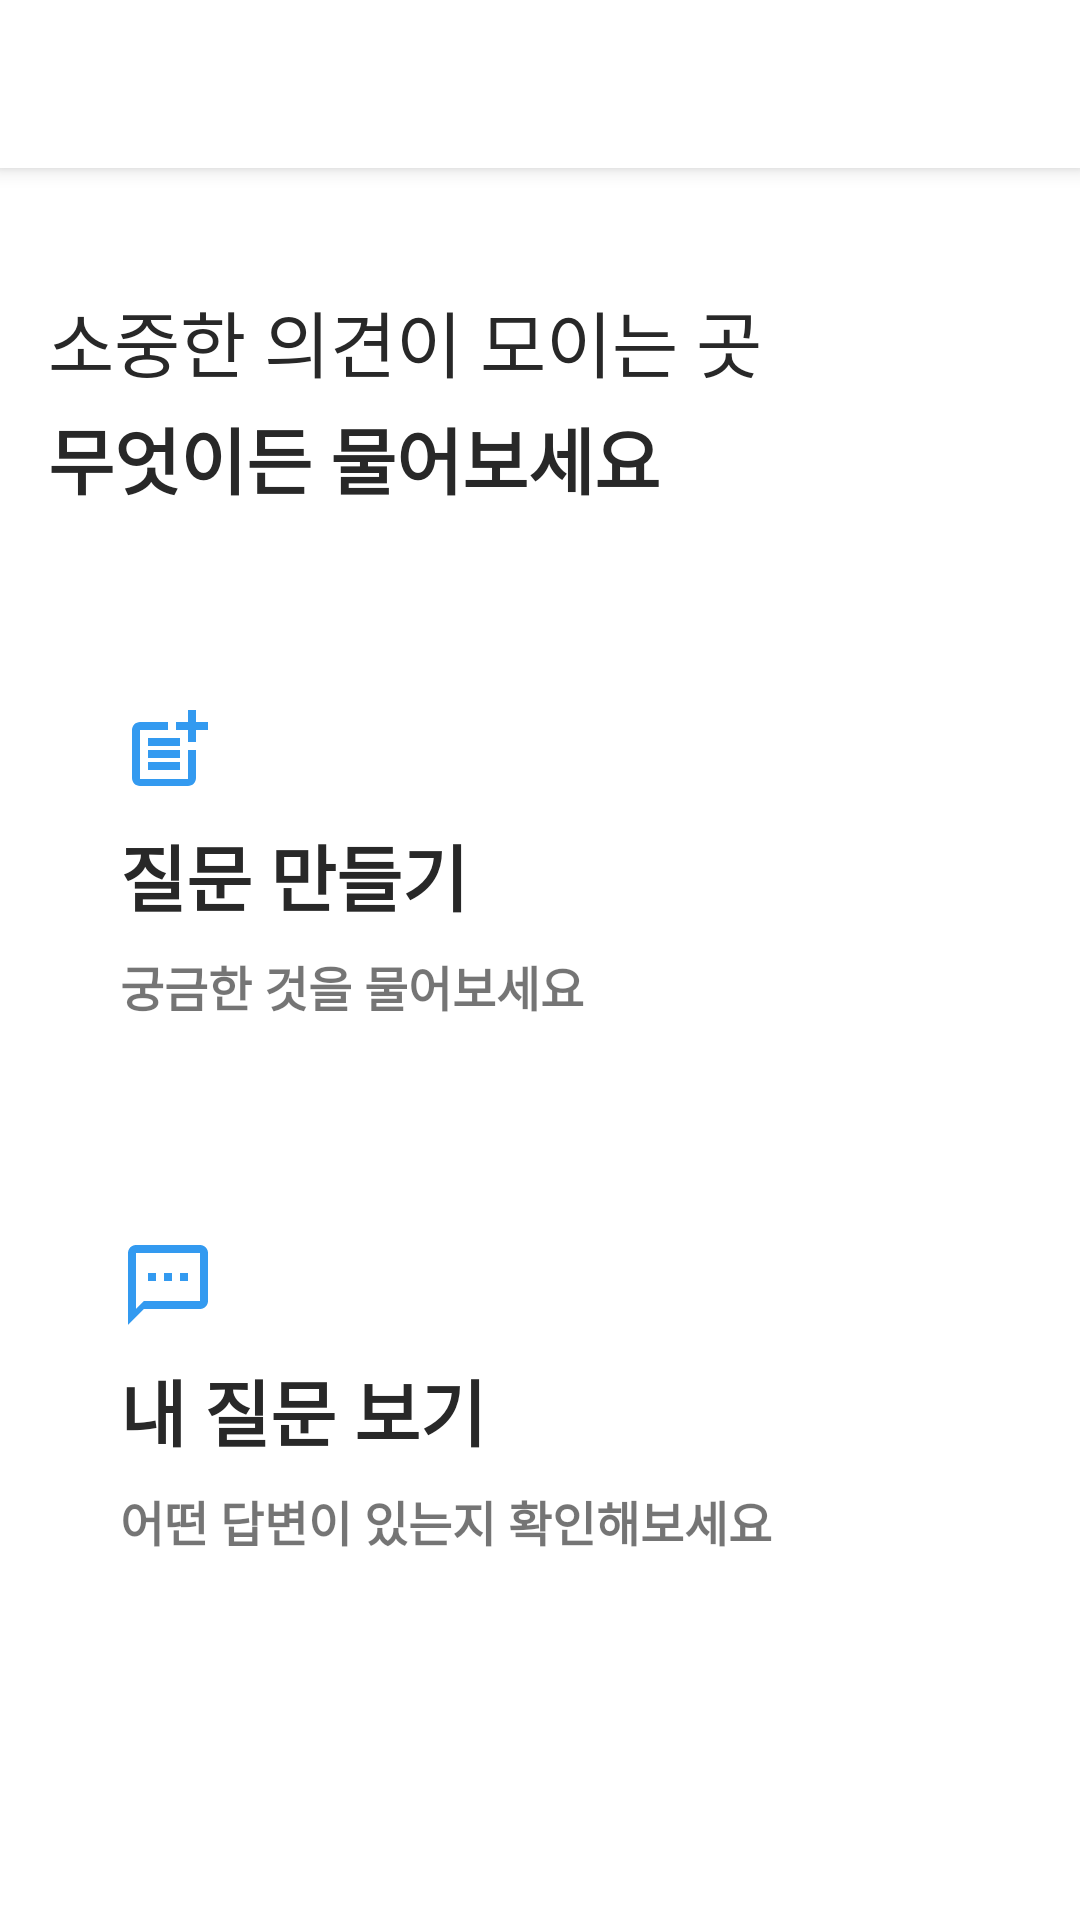

Screen size 1080*1920. Icon name, then its box in pixels as (x1, y1, x2, y2):
add survey: (132, 710, 208, 786)
